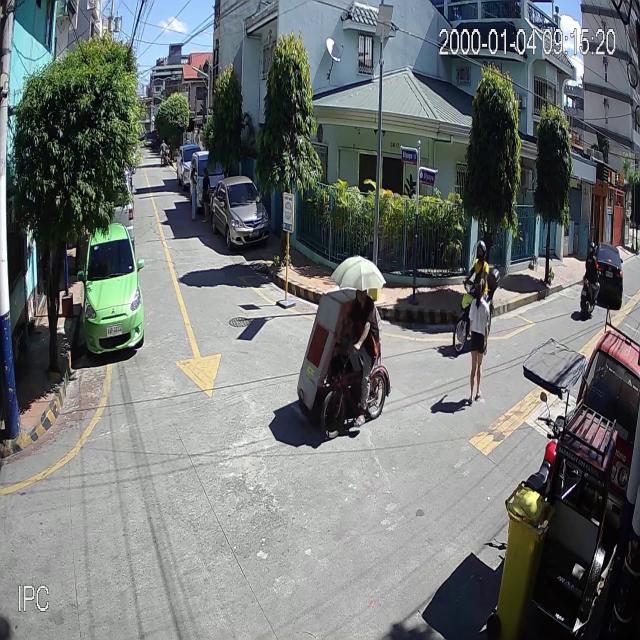standing: (188, 166, 201, 221), (202, 166, 213, 223), (160, 139, 169, 165)
walking: (468, 278, 491, 407)
